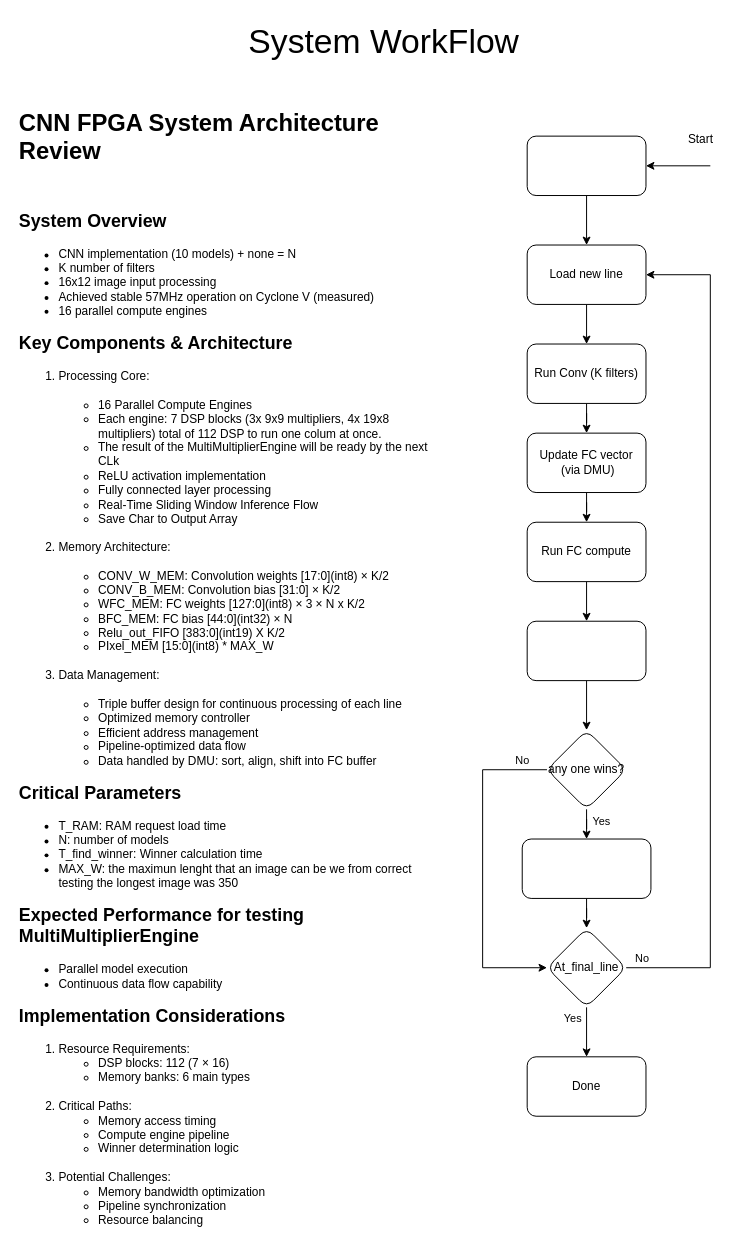
This 742x1256 diagram has some shape labels left out. Here are the shapes that lost their labels. From the top down, the centre of each, then its label:
At point 586,165: "Load Image".
At point 586,650: "Apply Threshold → Class Scores".
At point 586,868: "Save Result rst temp buffers Shift Result Array ← Rollback 2 columns".
